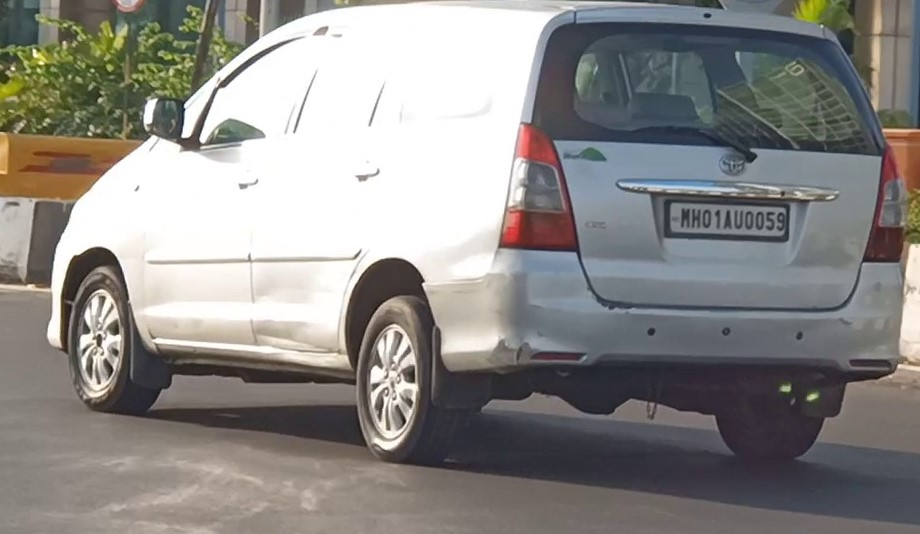MH01AU0059: (669, 201, 787, 237)
